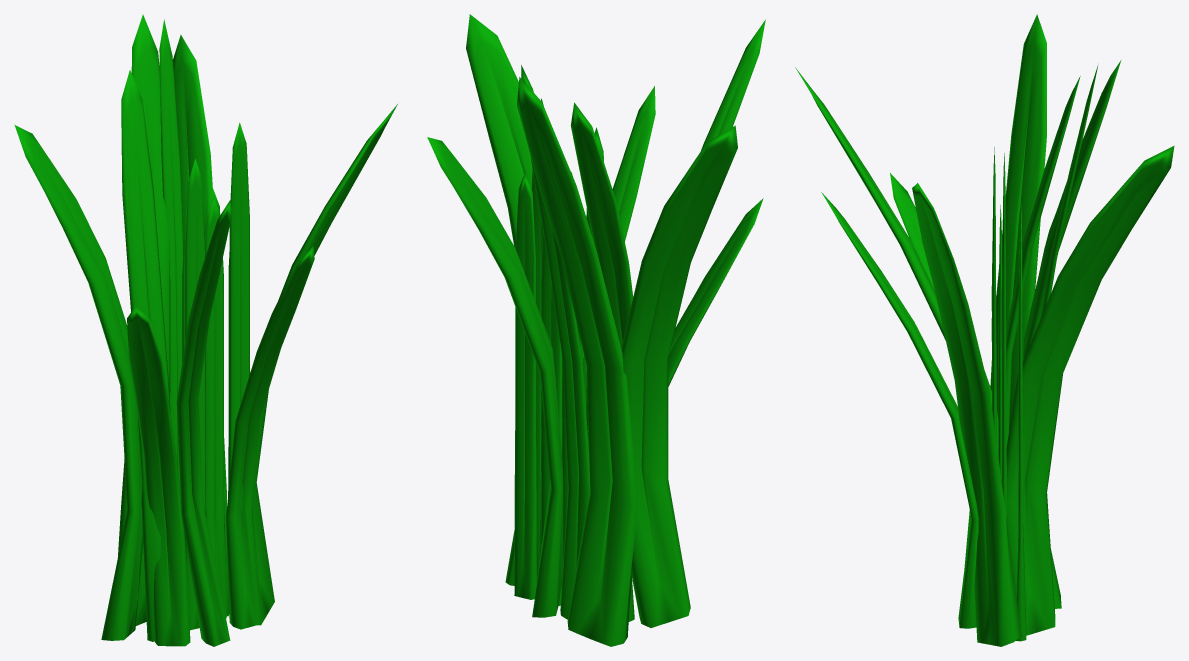
File: obj_Grass_Group2.fbx
3 renders of one model, left to right at view 1: azimuth 30°, elevation 25°; view 2: azimuth 150°, elevation 25°; view 3: azimuth 270°, elevation 25°, orthographic. The views are drawn at different scales.
Visible parts, largest first — view 1: Grass2; view 2: Grass2; view 3: Grass2.
Boxes of the visible parts, x1=… form: Grass2: x1=14, y1=14, x2=397, y2=646; Grass2: x1=427, y1=14, x2=765, y2=646; Grass2: x1=795, y1=14, x2=1174, y2=646.
Size of the model in its own units: 1.13 by 1.92 by 1.16.
